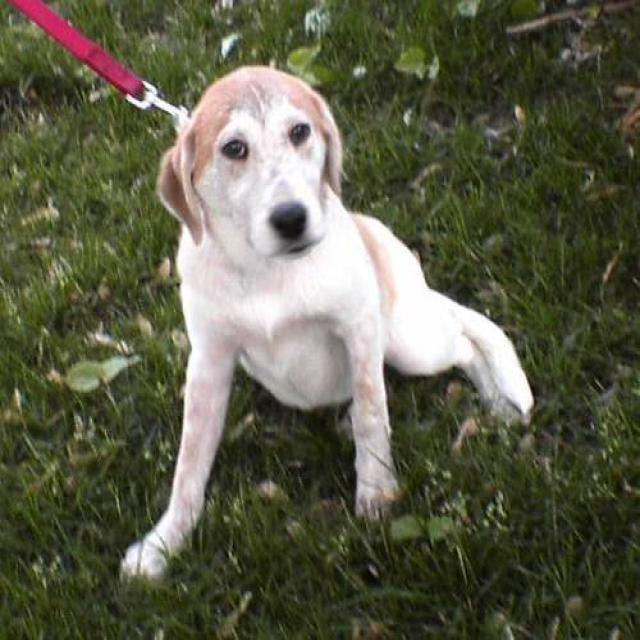dog: (118, 62, 535, 587)
